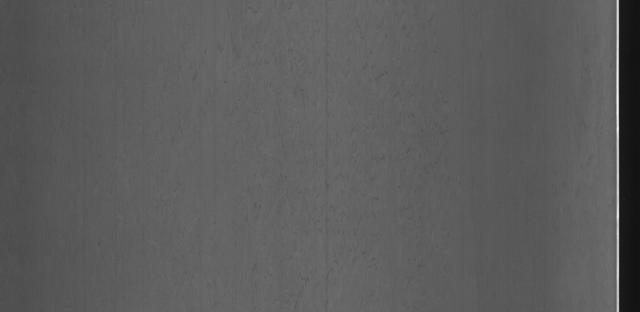silk_spot: (252, 56, 447, 261)
